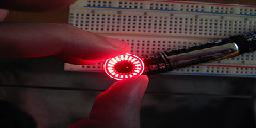LED: (104, 53, 145, 81)
